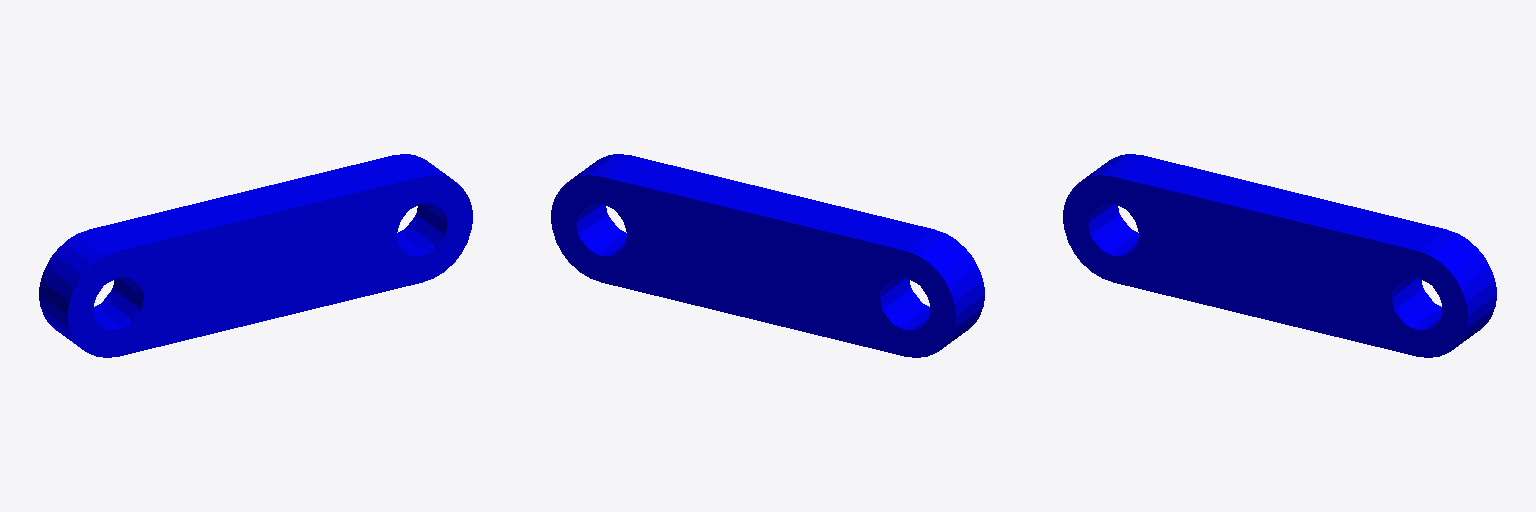
File: body2.obj
3 views of the same model, side by side, from view 1: azimuth 30°, elevation 25°; view 2: azimuth 150°, elevation 25°; view 3: azimuth 330°, elevation 25° (orthographic).
Visible parts, largest first — view 1: 1; view 2: 1; view 3: 1.
Part boxes in pixels (x1,y1,x2,y2): 1: (39,154,472,357); 1: (551,154,984,357); 1: (1063,154,1496,357).
Bounding box in the file's own units: 160 × 40 × 20.